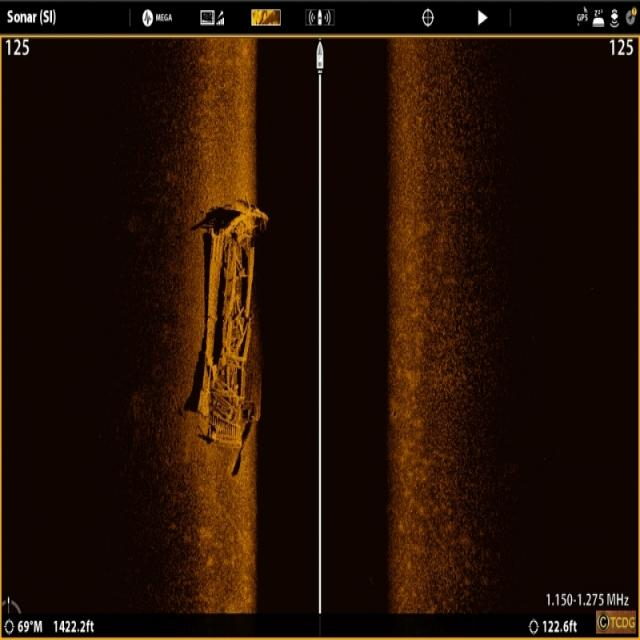ship: (193, 190, 267, 450)
